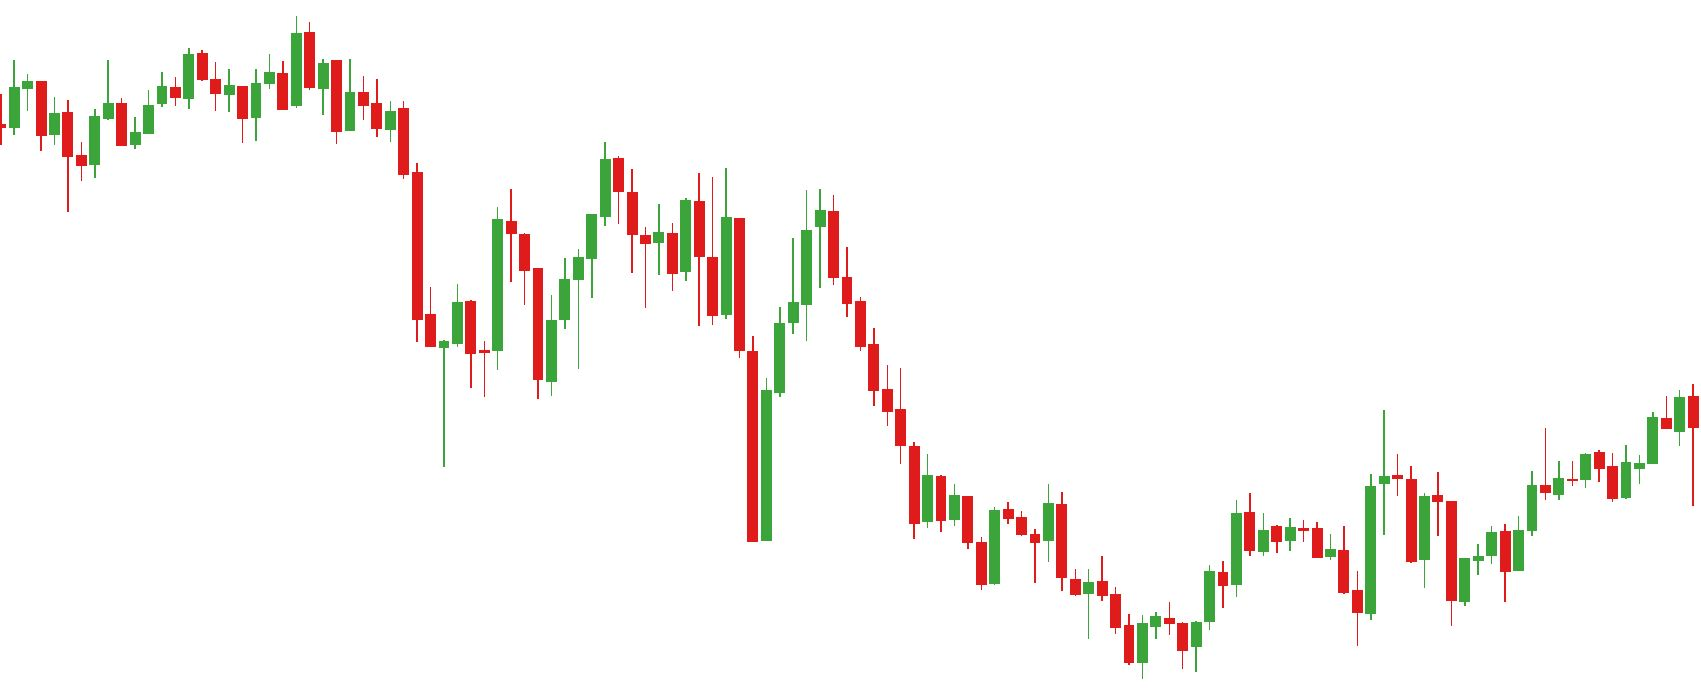buy: (532, 281, 777, 551), (1214, 529, 1379, 646)
sell: (489, 140, 626, 268), (179, 20, 318, 123)
